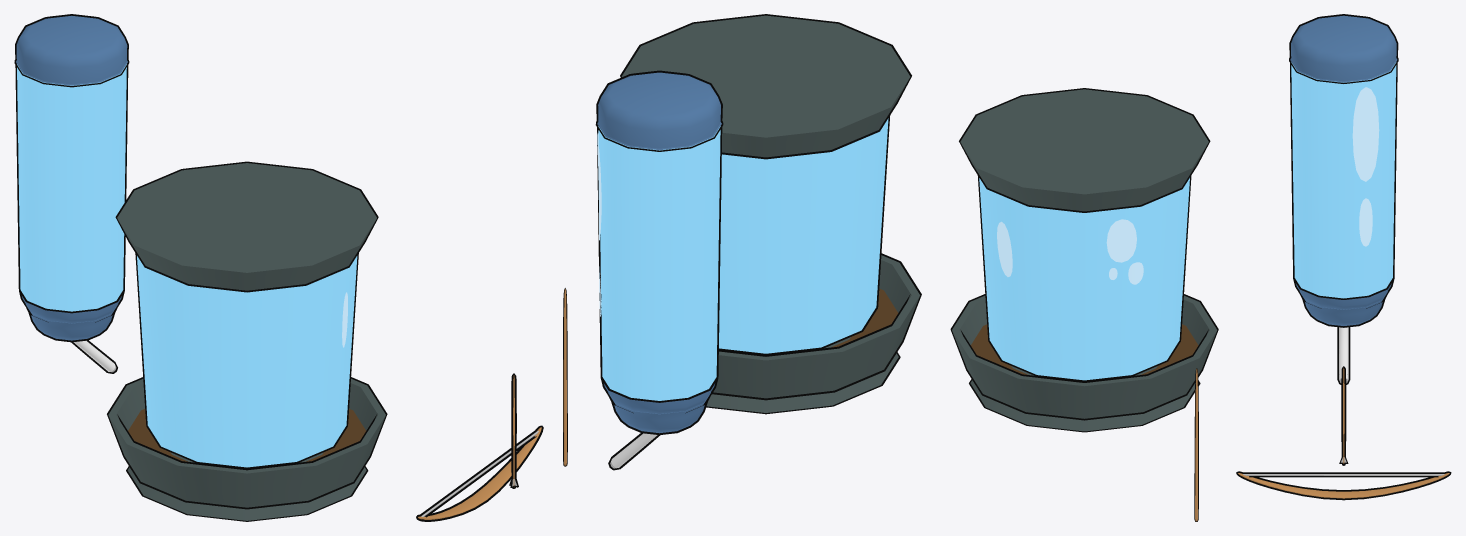
Rendered from Hamster Weapons.glb.
3 views of the same model, side by side, from view 1: azimuth 30°, elevation 25°; view 2: azimuth 150°, elevation 25°; view 3: azimuth 270°, elevation 25° (orthographic). The views are drawn at different scales.
Parts seen in each view (by area): view 1: Outer.001, Outer, Top, Bottom, Water Feeder, Cylinder.008; view 2: Outer, Outer.001, Top, Bottom, ToothPick Bow, Water Feeder, Toothpick Sword, Cylinder.008, Arrow; view 3: Outer.001, Outer, Top, Bottom, ToothPick Bow, Reflections, Water Feeder, Reflection 1, Cylinder.008, Toothpick Sword, Arrow.
Part boxes in pixels (x1,y1,x2,y2): Outer.001: [135, 253, 358, 468]; Outer: [14, 14, 129, 323]; Top: [115, 161, 378, 292]; Bottom: [107, 377, 387, 521]; Water Feeder: [24, 302, 119, 373]; Cylinder.008: [128, 409, 365, 461]; Outer: [595, 70, 723, 413]; Outer.001: [719, 115, 890, 354]; Top: [620, 14, 911, 159]; Bottom: [706, 253, 921, 414]; ToothPick Bow: [416, 425, 543, 521]; Water Feeder: [606, 391, 712, 470]; Toothpick Sword: [563, 288, 567, 466]; Cylinder.008: [831, 288, 898, 347]; Arrow: [509, 373, 518, 488]; Outer.001: [977, 175, 1191, 381]; Outer: [1289, 14, 1398, 309]; Top: [959, 88, 1210, 212]; Bottom: [950, 294, 1218, 432]; ToothPick Bow: [1236, 471, 1451, 500]; Reflections: [997, 219, 1143, 284]; Water Feeder: [1298, 289, 1389, 384]; Reflection 1: [1352, 87, 1379, 181]; Cylinder.008: [971, 324, 1198, 374]; Toothpick Sword: [1194, 368, 1198, 521]; Arrow: [1339, 366, 1348, 465].
Bounding box in the file's own units: 2.59 × 4.24 × 4.66.
